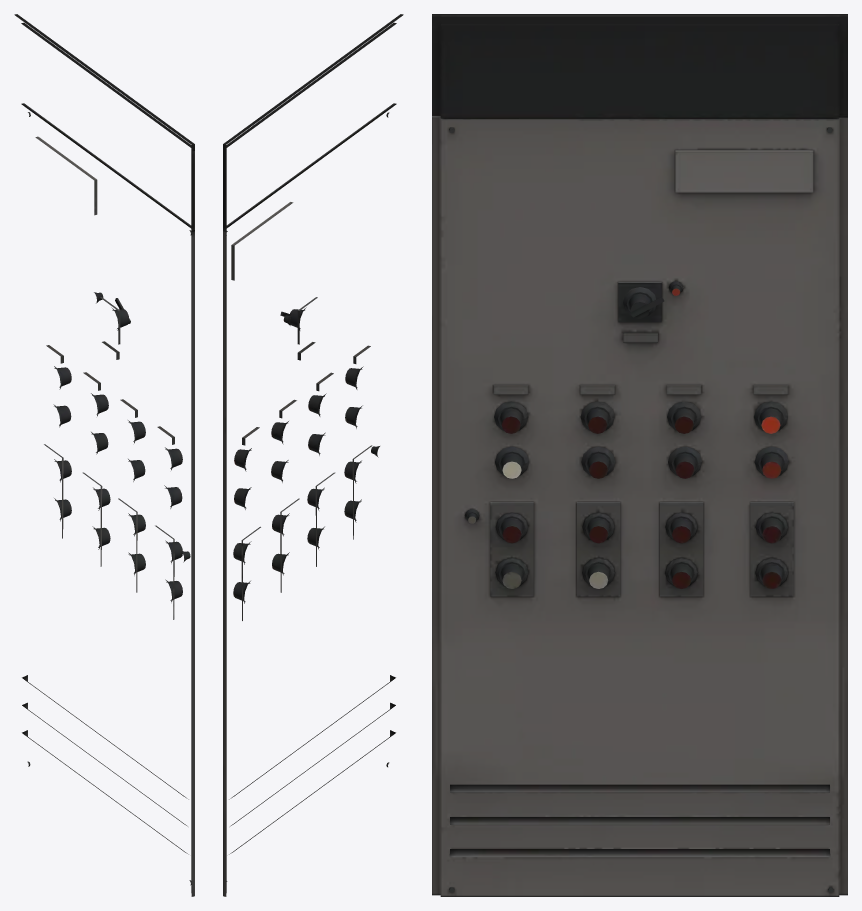
The picture shows the model from 3 angles, left to right: view 1: azimuth 30°, elevation 25°; view 2: azimuth 150°, elevation 25°; view 3: azimuth 270°, elevation 25°; orthographic projection. The views are drawn at different scales.
Visible parts, largest first — view 1: body0_model0_lod0_mesh0; view 2: body0_model0_lod0_mesh0; view 3: body0_model0_lod0_mesh0.
Boxes of the visible parts, box(x1,y1,x2,y2) form: body0_model0_lod0_mesh0: box(14, 14, 194, 896); body0_model0_lod0_mesh0: box(223, 14, 403, 896); body0_model0_lod0_mesh0: box(432, 14, 847, 896).
Bounding box in the file's own units: 3.79 × 112 × 47.99.
Materials: 1 (1 with a texture image).
